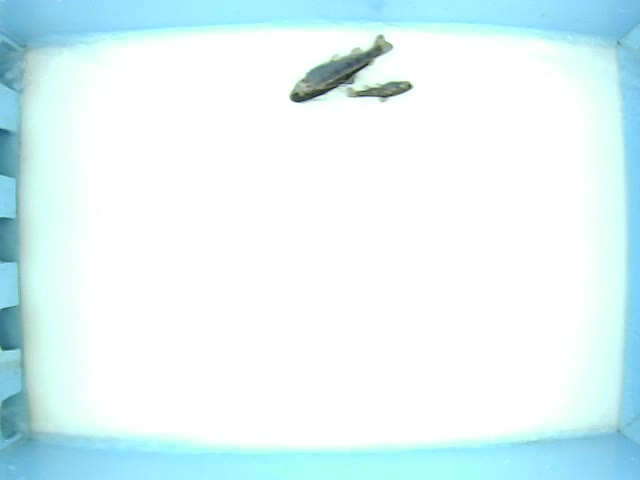fish: (288, 33, 395, 104), (345, 78, 415, 104)
